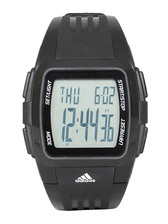watch: (8, 11, 156, 212)
